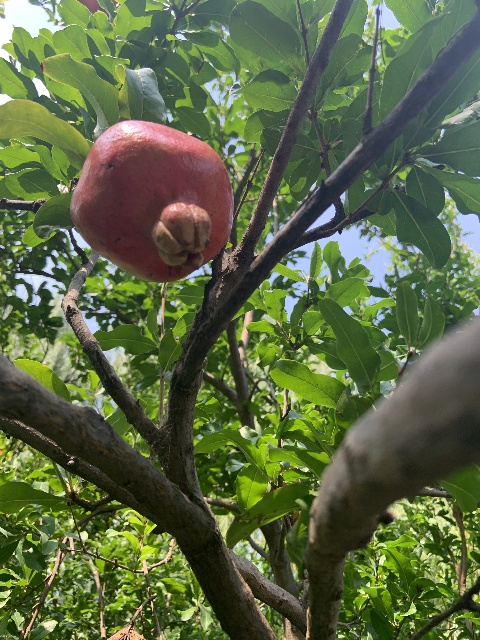ripe: (68, 120, 234, 282)
